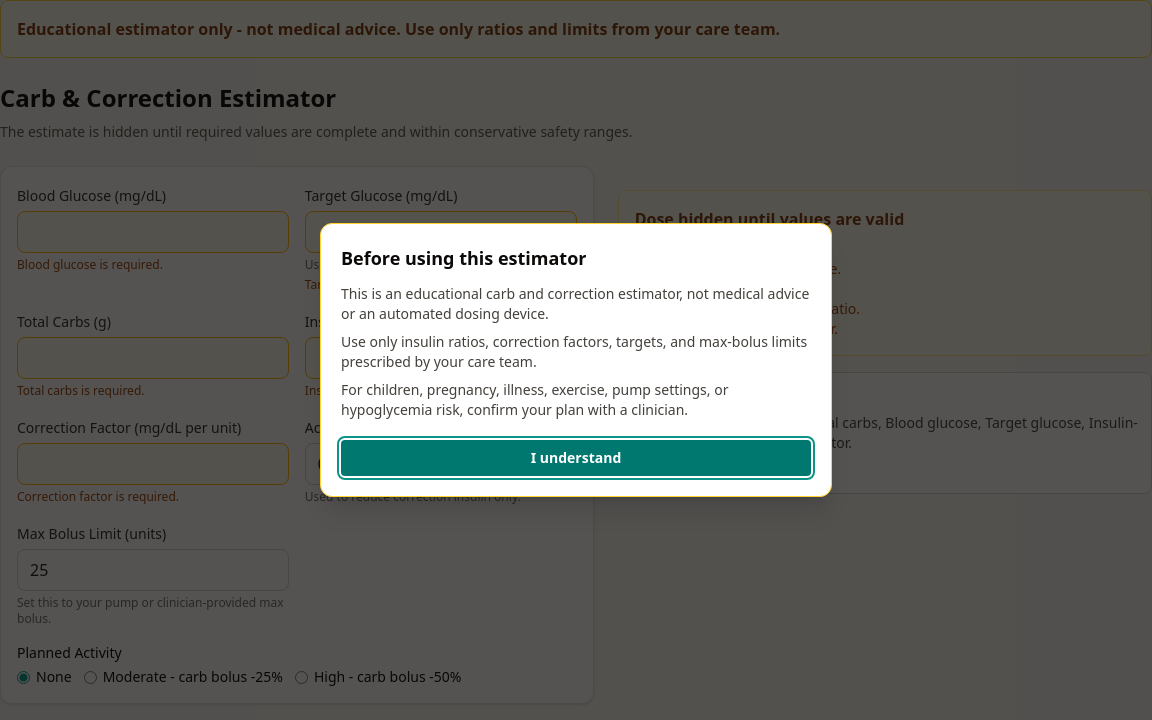
Test: InsulinHelper acknowledgement › labels numeric inputs with constraints and inline validation hints
Click the button "I understand": x=576, y=458 [341, 440, 811, 476]
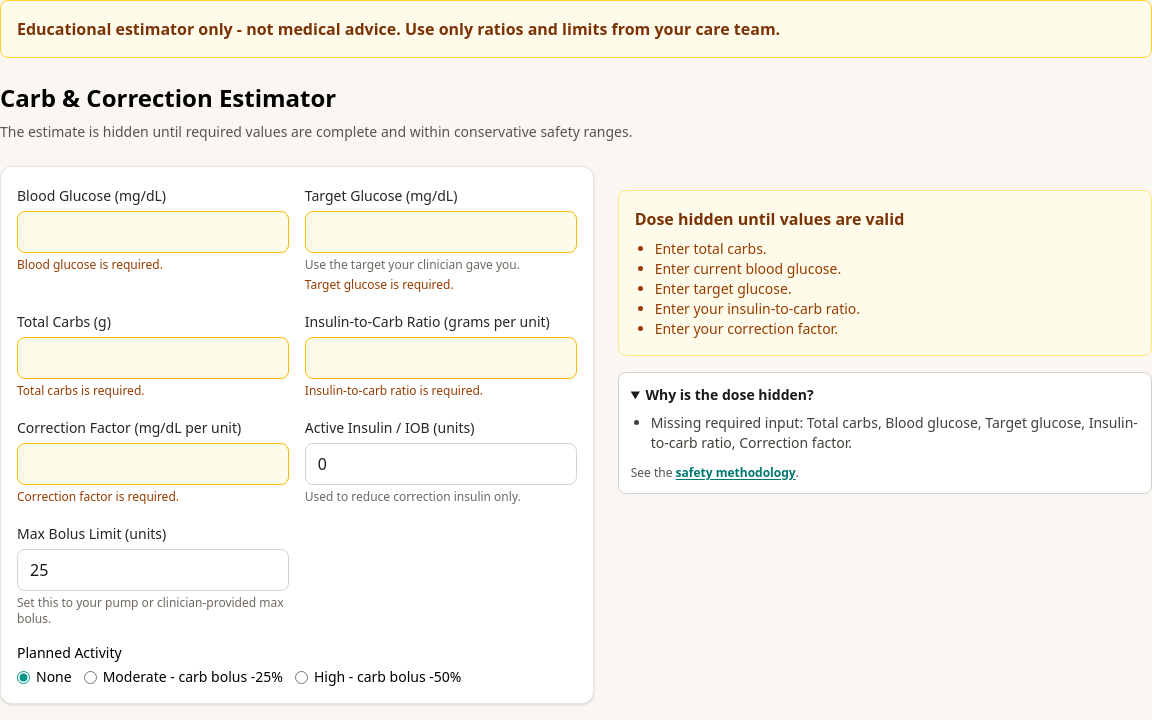
Expected: the text "Blood glucose is required." is shown, [17, 256, 163, 273]
In the number field labelled "Blood Glucose (mg/dL)": x=153, y=232 [17, 211, 289, 253], type "25"
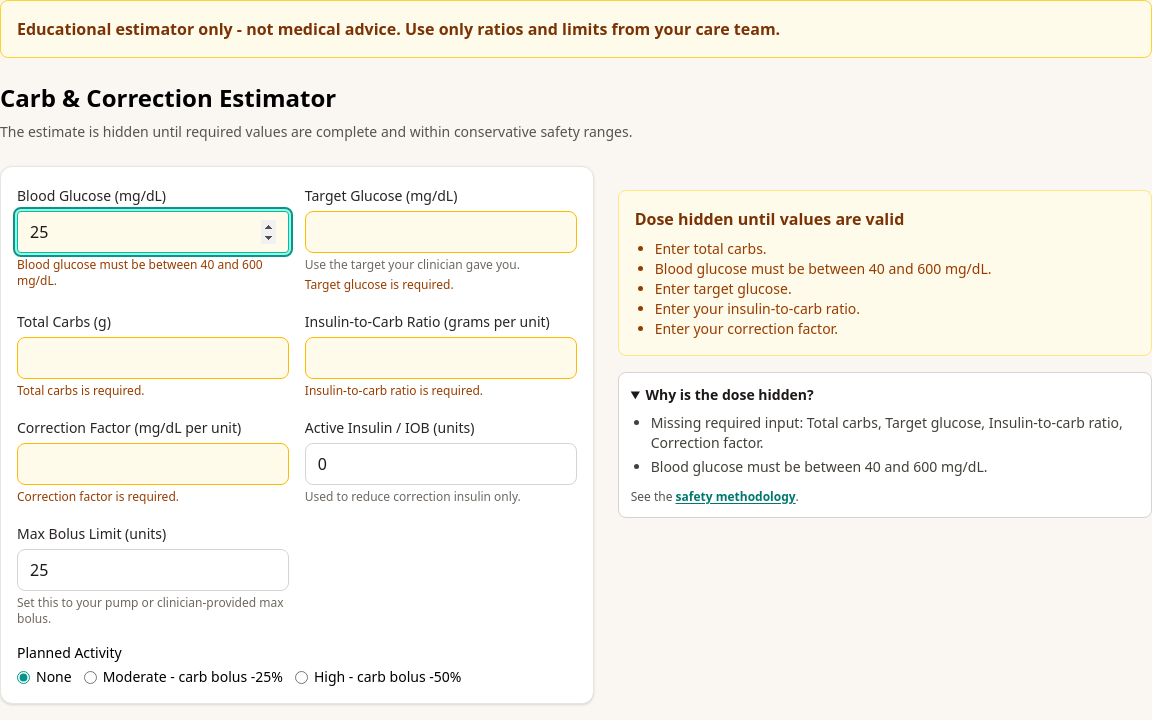
Result: the text "Blood glucose must be between 40 and 600 mg/dL." is shown at [17, 257, 289, 289]
